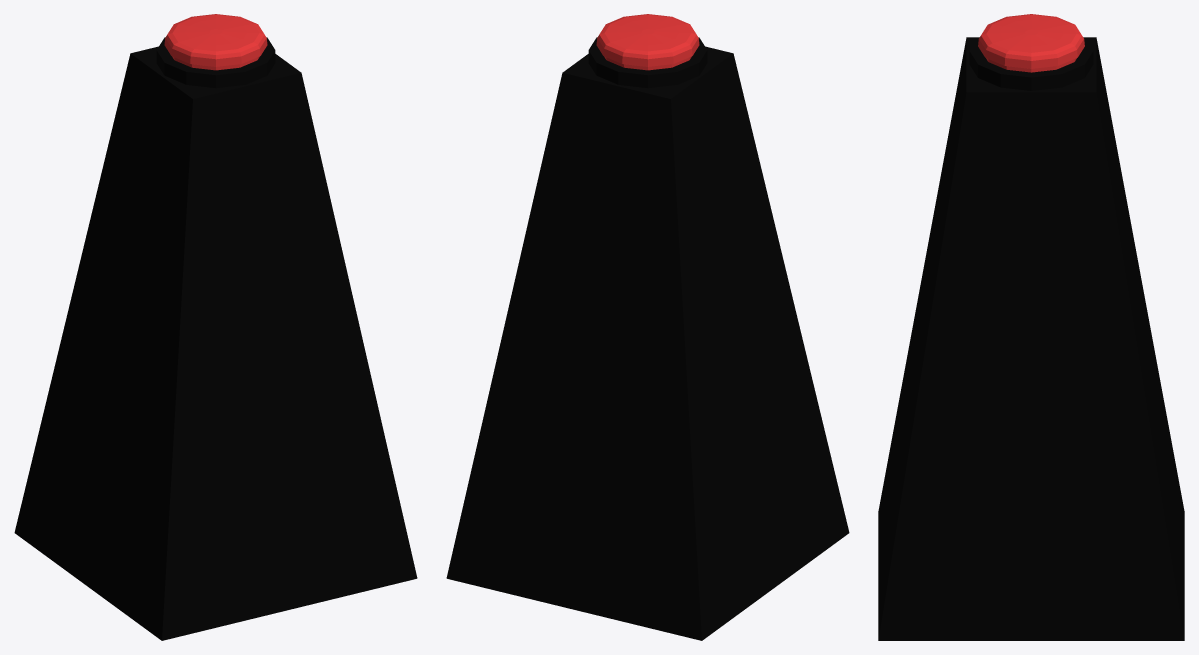
File: RedButton.fbx
3 views of the same model, side by side, from view 1: azimuth 30°, elevation 25°; view 2: azimuth 150°, elevation 25°; view 3: azimuth 270°, elevation 25° (orthographic). The views are drawn at different scales.
Visible parts, largest first — view 1: RedButton; view 2: RedButton; view 3: RedButton.
Boxes of the visible parts, bbox=[...] form: RedButton: bbox=[14, 14, 417, 640]; RedButton: bbox=[446, 14, 849, 640]; RedButton: bbox=[878, 14, 1184, 640].
Bounding box in the file's own units: 29.94 × 58.69 × 29.94.
